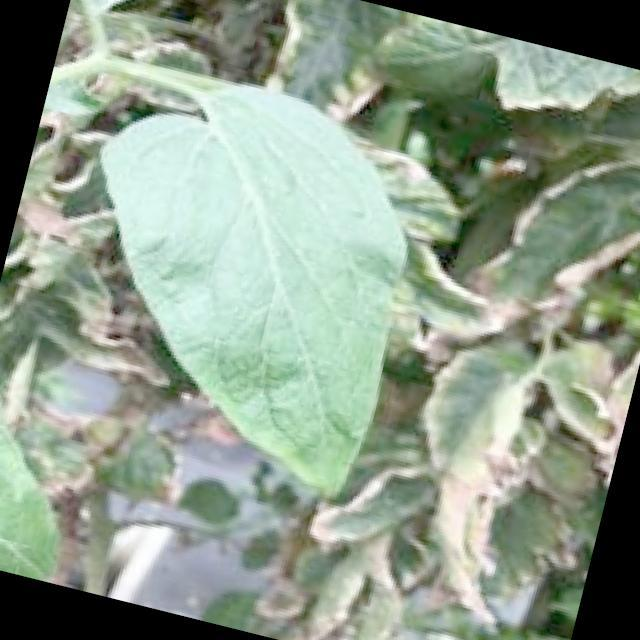Tomato healthy leaf: (97, 76, 408, 498)
